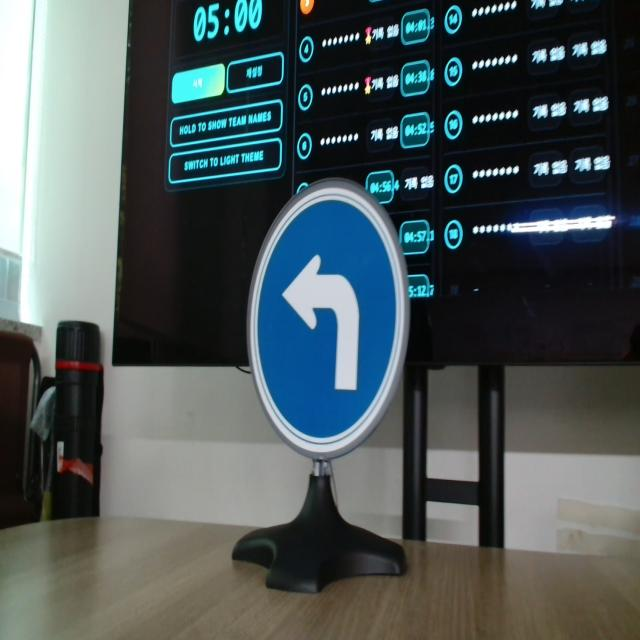left_direction: (237, 165, 430, 495)
